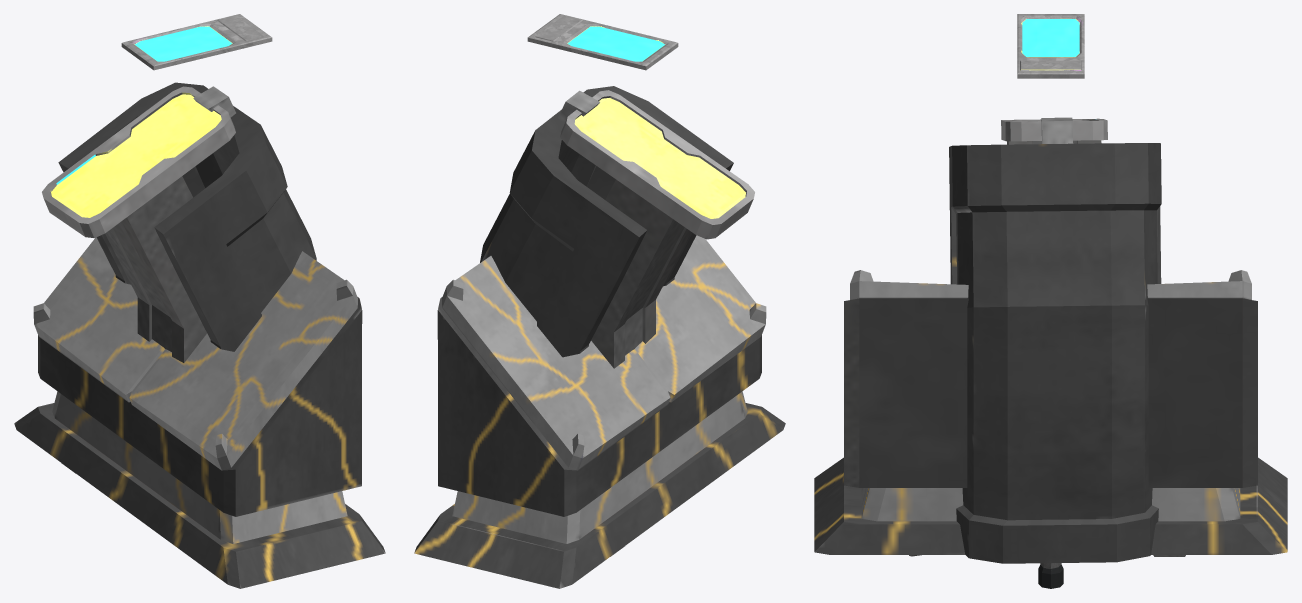
Rendered from keycardandstuff.fbx.
The picture shows the model from 3 angles, left to right: view 1: azimuth 30°, elevation 25°; view 2: azimuth 150°, elevation 25°; view 3: azimuth 270°, elevation 25°; orthographic projection. The views are drawn at different scales.
Visible parts, largest first — view 1: ShotgunDisplay_Base, YellowCardReader, ShotgunDisplay_R, ShotgunDisplay_L, KeycardBlue, KeycardYellow; view 2: ShotgunDisplay_Base, YellowCardReader, ShotgunDisplay_L, ShotgunDisplay_R, KeycardBlue, KeycardYellow; view 3: YellowCardReader, ShotgunDisplay_Base, KeycardBlue, ShotgunDisplay_R, ShotgunDisplay_L, Less_Health.
Boxes of the visible parts, x1,y1,x2,y2 form: ShotgunDisplay_Base: [14, 297, 385, 588]; YellowCardReader: [42, 82, 316, 362]; ShotgunDisplay_R: [129, 251, 357, 470]; ShotgunDisplay_L: [33, 237, 164, 402]; KeycardBlue: [121, 14, 271, 69]; KeycardYellow: [121, 37, 272, 70]; ShotgunDisplay_Base: [414, 297, 785, 588]; YellowCardReader: [480, 86, 754, 368]; ShotgunDisplay_L: [442, 256, 670, 470]; ShotgunDisplay_R: [635, 235, 766, 402]; KeycardBlue: [527, 14, 678, 68]; KeycardYellow: [527, 37, 678, 70]; YellowCardReader: [949, 117, 1161, 563]; ShotgunDisplay_Base: [814, 298, 1287, 554]; KeycardBlue: [1017, 14, 1084, 78]; ShotgunDisplay_R: [850, 270, 968, 299]; ShotgunDisplay_L: [1147, 270, 1251, 299]; Less_Health: [1038, 563, 1063, 588].
Size of the model in its own units: 153 by 322 by 256.
